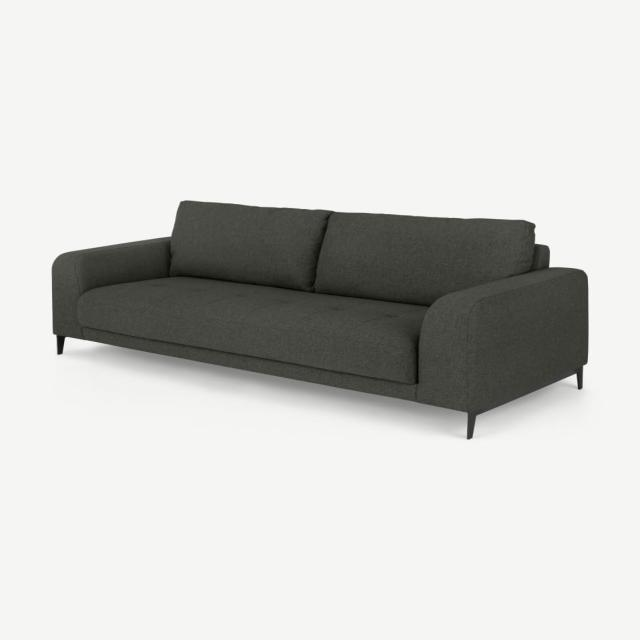Soffa: (47, 197, 592, 436)
